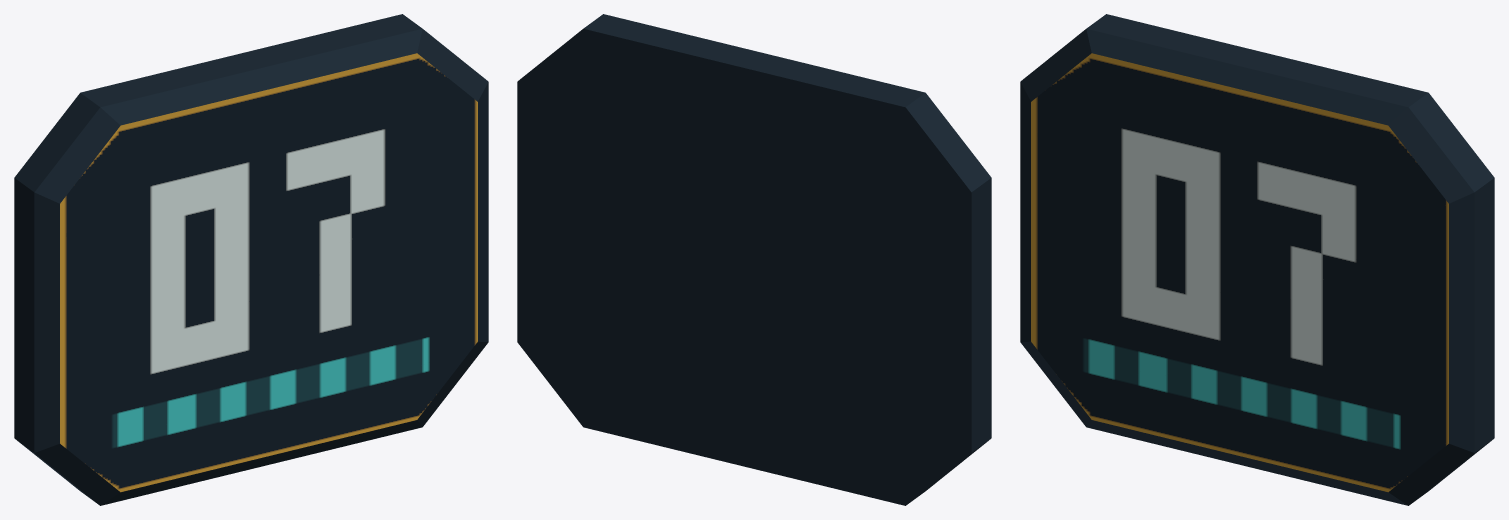
The model's file is depot-07.glb.
3 renders of one model, left to right at view 1: azimuth 30°, elevation 25°; view 2: azimuth 150°, elevation 25°; view 3: azimuth 330°, elevation 25°, orthographic.
Parts seen in each view (by area): view 1: Depot 07 Shoulder Patch; view 2: Depot 07 Shoulder Patch; view 3: Depot 07 Shoulder Patch.
Part boxes in pixels (x1,y1,x2,y2): Depot 07 Shoulder Patch: (14,14,488,505); Depot 07 Shoulder Patch: (517,14,991,505); Depot 07 Shoulder Patch: (1020,14,1494,505).
Bounding box in the file's own units: 0.62 × 0.52 × 0.065.
1 material, 1 textured.
